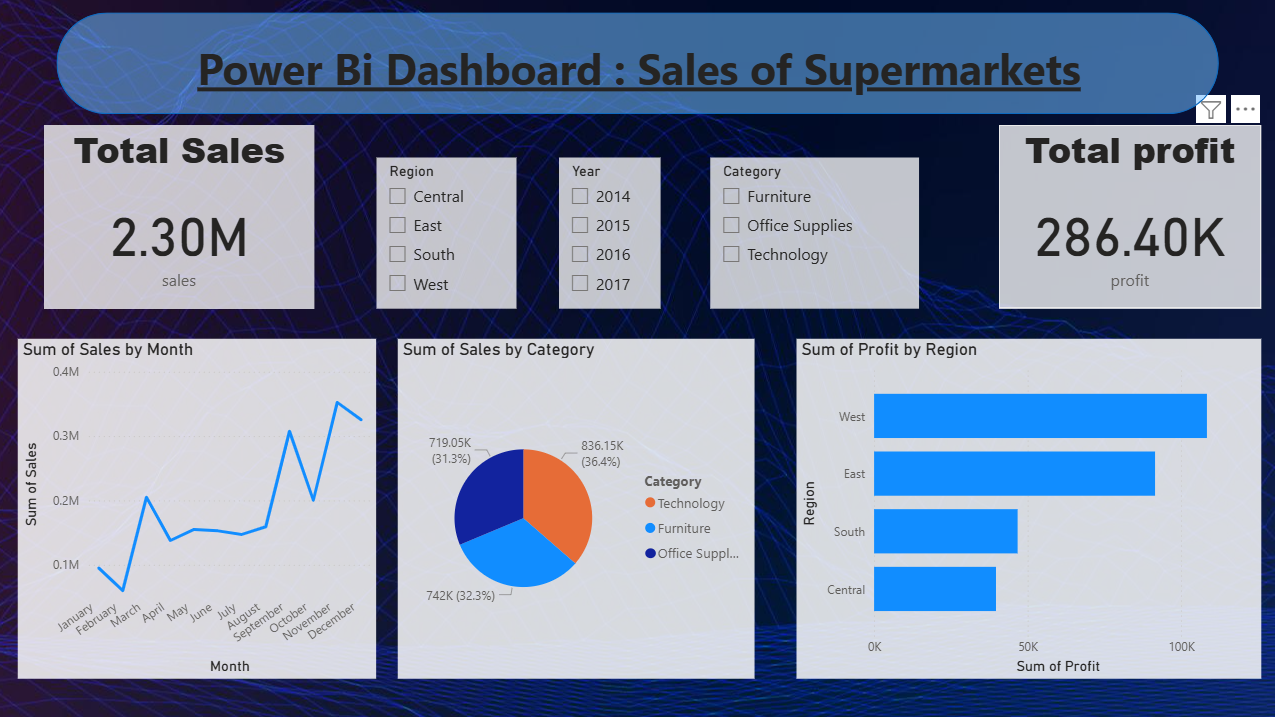

What the dashboard file says about the page in this screenshot:
{"tool":"powerbi","page":{"name":"Page 1","canvas":[1280,720],"ordinal":0},"visuals":[{"type":"card","title":"Total Sales ","fields":{"Values":["Sum(task 2.Sales)"]},"box":[45.3,124.9,270.3,183.9],"z":0},{"type":"card","title":"Total profit","fields":{"Values":["Sum(task 2.Profit)"]},"box":[1000.3,124.9,262.1,183.9],"z":1000},{"type":"lineChart","fields":{"Category":["task 2.Order Date.Variation.Date Hierarchy.Month"],"Y":["Sum(task 2.Sales)"]},"box":[19.2,338.9,358.1,340.3],"z":2000},{"type":"clusteredBarChart","fields":{"Y":["Sum(task 2.Profit)"],"Category":["task 2.Region"]},"box":[797.3,338.9,465.2,340.3],"z":3000},{"type":"pieChart","fields":{"Category":["task 2.Category"],"Y":["Sum(task 2.Sales)"]},"box":[399.3,338.9,356.8,340.3],"z":4000},{"type":"slicer","fields":{"Values":["task 2.Category"]},"box":[710.8,157.8,208.6,150.9],"z":5000},{"type":"slicer","fields":{"Values":["task 2.Order Date.Variation.Date Hierarchy.Year"]},"box":[559.9,157.8,101.5,150.9],"z":6000},{"type":"slicer","fields":{"Values":["task 2.Region"]},"box":[377.4,157.8,140,150.9],"z":7000},{"type":"shape","box":[57.6,12.3,1162.3,101.5],"z":8000},{"type":"textbox","box":[100,33.8,1080,67.5],"z":8001}]}

Visuals, with their boxes in screenshot pixels (x1, y1, x2, y2), scaled from the page's 1280x720 canvas onto the 1275x717 screenshot:
"Total Sales " card: locate(45, 124, 314, 308)
"Total profit" card: locate(996, 124, 1257, 308)
lineChart - task 2.Order Date.Variation.Date Hierarchy.Month x Sum(task 2.Sales): locate(19, 337, 376, 676)
clusteredBarChart - Sum(task 2.Profit) x task 2.Region: locate(794, 337, 1258, 676)
pieChart - task 2.Category x Sum(task 2.Sales): locate(398, 337, 753, 676)
slicer - task 2.Category: locate(708, 157, 916, 307)
slicer - task 2.Order Date.Variation.Date Hierarchy.Year: locate(558, 157, 659, 307)
slicer - task 2.Region: locate(376, 157, 515, 307)
shape: locate(57, 12, 1215, 113)
textbox: locate(100, 34, 1175, 101)
